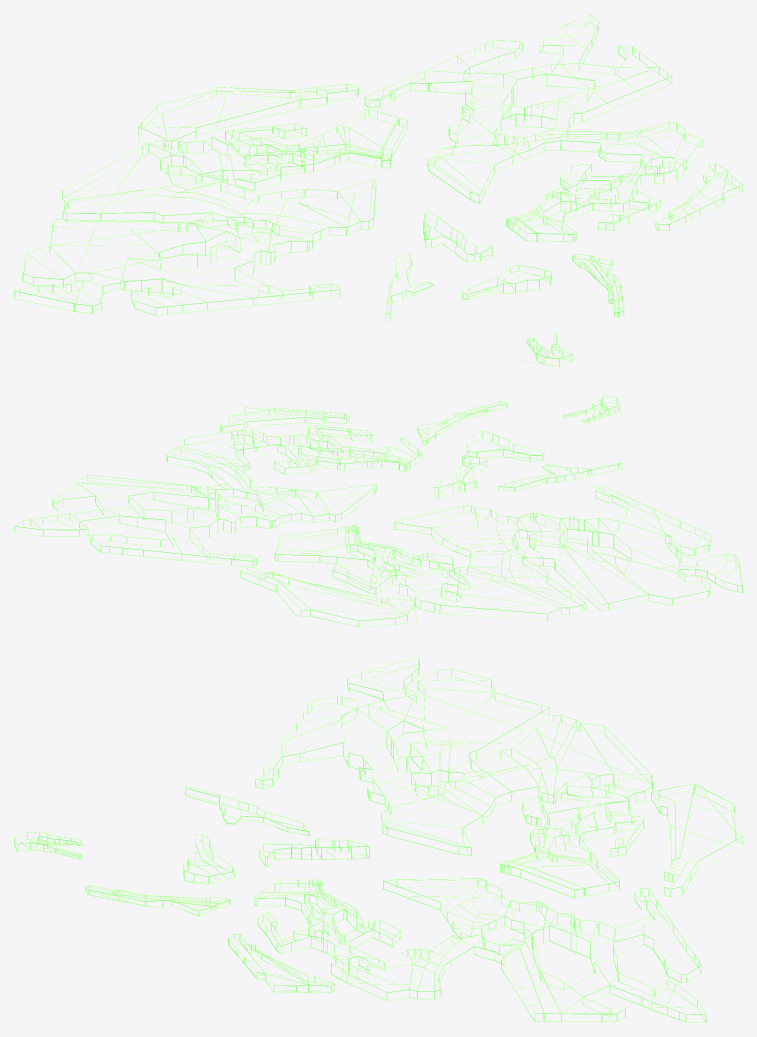
Rendered from MapDraft2.fbx.
3 renders of one model, top to bottom at view 1: azimuth 30°, elevation 25°; view 2: azimuth 150°, elevation 25°; view 3: azimuth 270°, elevation 25°, orthographic. The views are drawn at different scales.
Visible parts, largest first — view 1: Cube.004; view 2: Cube.004; view 3: Cube.004.
Part boxes in pixels (x1,y1,x2,y2): Cube.004: [14, 14, 742, 366]; Cube.004: [14, 395, 742, 627]; Cube.004: [14, 656, 742, 1022].
Bounding box in the file's own units: 1005 × 33.66 × 867.
